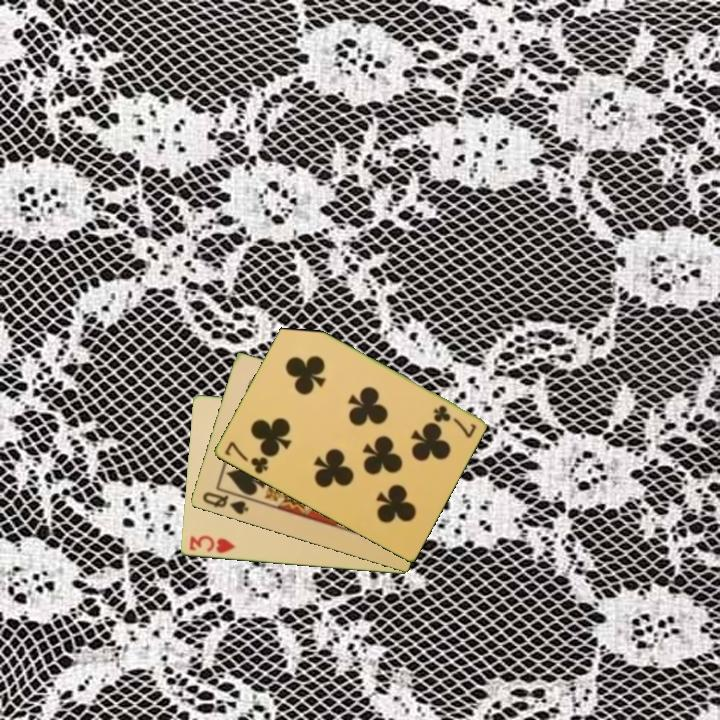3h: (186, 532, 238, 556)
7c: (221, 438, 271, 477), (429, 402, 478, 441)
Qs: (199, 489, 251, 518)
